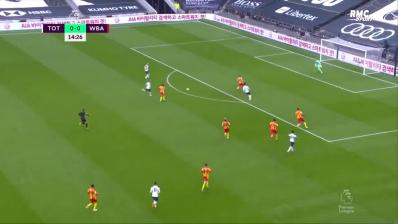football: (184, 87, 192, 92)
player: (84, 182, 100, 213), (148, 180, 162, 210), (199, 162, 212, 192), (294, 107, 310, 130), (268, 118, 280, 142), (286, 130, 298, 154), (221, 116, 232, 141), (242, 82, 253, 102), (158, 83, 168, 103), (313, 57, 324, 75), (143, 61, 152, 82), (236, 74, 246, 91), (142, 80, 152, 97)
referee: (77, 107, 92, 131)
